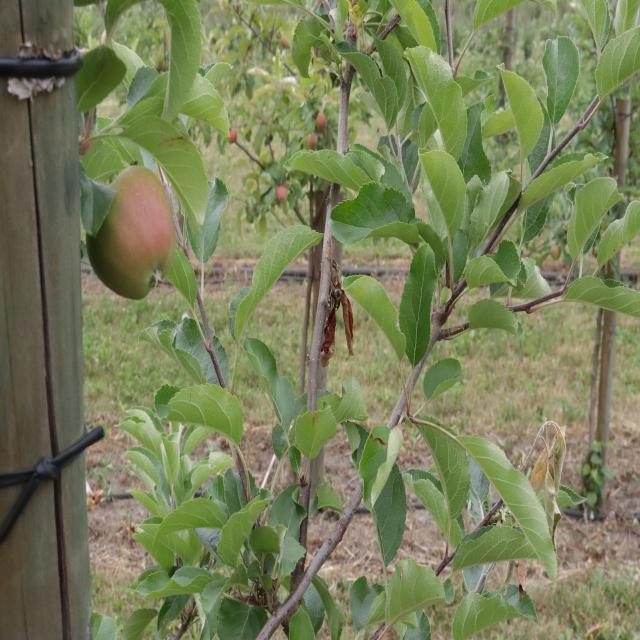-FireBlight-: (334, 270, 356, 361), (322, 314, 337, 367)
